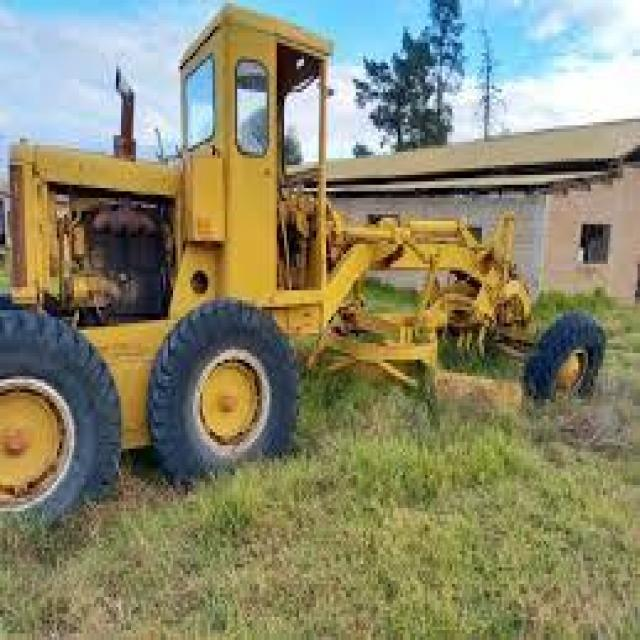Grader: (2, 10, 638, 534)
